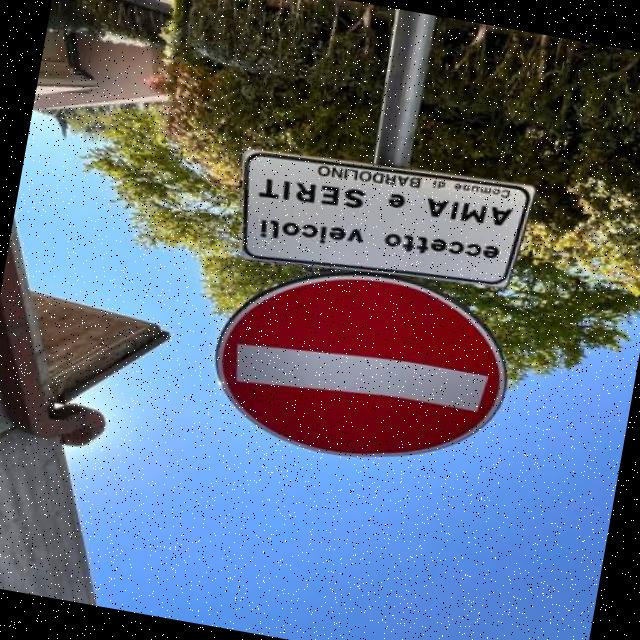do_not_enter: (180, 242, 554, 510)
